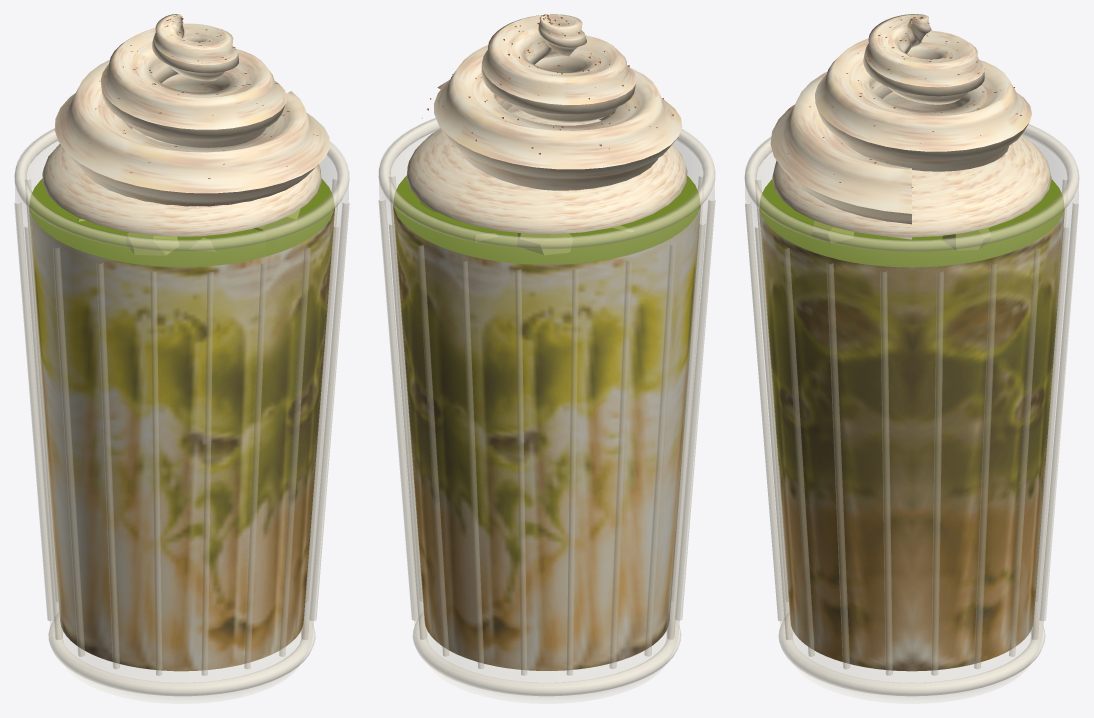
File: colattao-iced-matcha.glb
3 renders of one model, left to right at view 1: azimuth 30°, elevation 25°; view 2: azimuth 150°, elevation 25°; view 3: azimuth 270°, elevation 25°, orthographic.
Parts seen in each view (by area): view 1: clear-fluted-glass, cream-and-matcha-marbled-liquid, vanilla-whipped-cream, raised-glass-ribs, matcha-top, translucent-matcha-ice; view 2: clear-fluted-glass, cream-and-matcha-marbled-liquid, vanilla-whipped-cream, raised-glass-ribs, matcha-top, translucent-matcha-ice; view 3: clear-fluted-glass, cream-and-matcha-marbled-liquid, vanilla-whipped-cream, raised-glass-ribs, matcha-top, translucent-matcha-ice.
Part boxes in pixels (x1,y1,x2,y2): clear-fluted-glass: [15, 128, 348, 703]; cream-and-matcha-marbled-liquid: [29, 208, 334, 671]; vanilla-whipped-cream: [42, 14, 329, 236]; raised-glass-ribs: [14, 129, 349, 695]; matcha-top: [29, 178, 334, 266]; translucent-matcha-ice: [77, 209, 301, 255]; clear-fluted-glass: [379, 118, 714, 703]; cream-and-matcha-marbled-liquid: [393, 205, 700, 670]; vanilla-whipped-cream: [406, 14, 687, 234]; raised-glass-ribs: [378, 118, 715, 695]; matcha-top: [393, 175, 700, 264]; translucent-matcha-ice: [420, 201, 633, 255]; clear-fluted-glass: [745, 124, 1078, 703]; cream-and-matcha-marbled-liquid: [759, 209, 1064, 671]; vanilla-whipped-cream: [770, 14, 1051, 239]; raised-glass-ribs: [744, 124, 1079, 695]; matcha-top: [759, 179, 1064, 267]; translucent-matcha-ice: [812, 210, 1029, 250].
Bounding box in the file's own units: 0.0743 × 0.1551 × 0.0743.
Materials: 7 (2 with a texture image).
